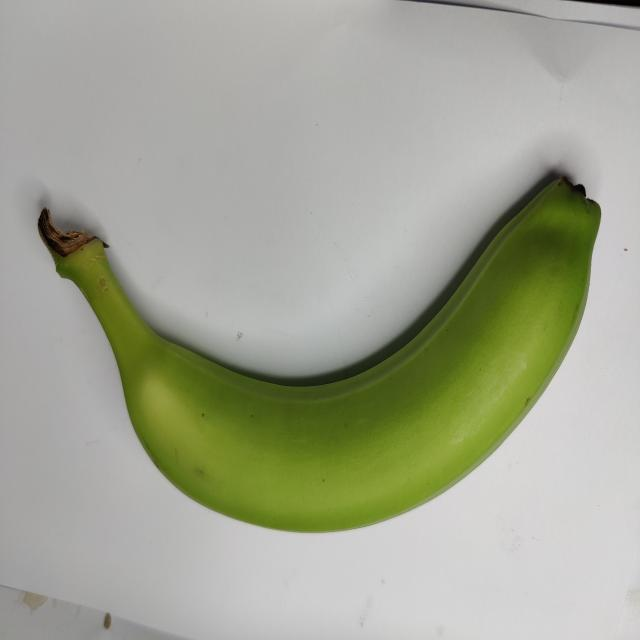raw: (28, 127, 613, 567)
